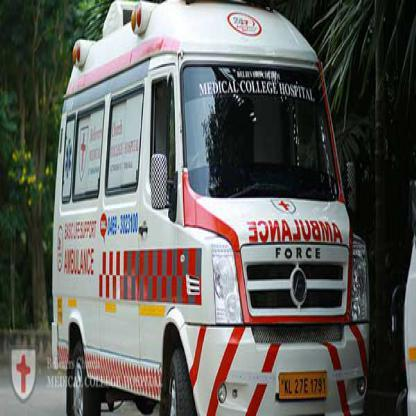ambulance_off: (49, 1, 371, 416)
